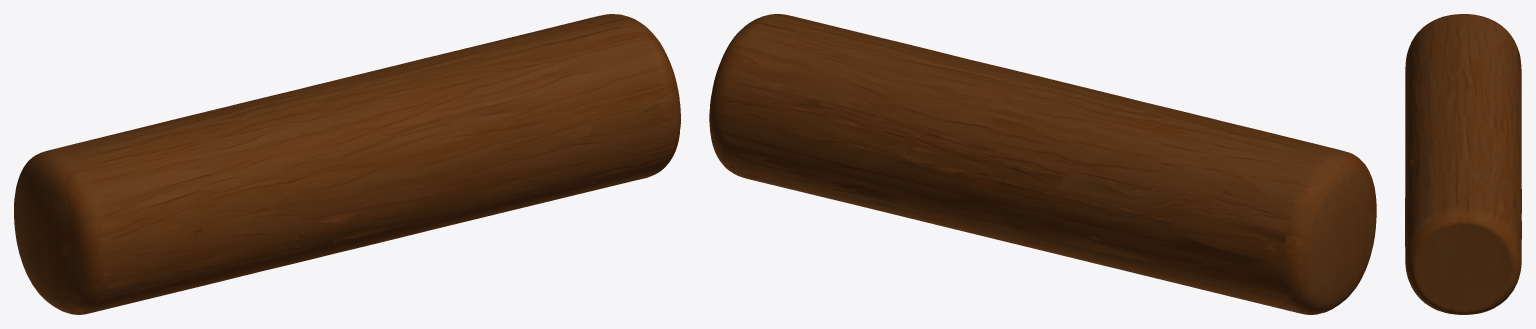
Rendered from peg.glb.
The picture shows the model from 3 angles, left to right: view 1: azimuth 30°, elevation 25°; view 2: azimuth 150°, elevation 25°; view 3: azimuth 270°, elevation 25°; orthographic projection. The views are drawn at different scales.
Parts seen in each view (by area): view 1: model; view 2: model; view 3: model.
Boxes of the visible parts, x1=… form: model: x1=14, y1=14, x2=680, y2=314; model: x1=709, y1=14, x2=1376, y2=314; model: x1=1405, y1=14, x2=1521, y2=314.
Bounding box in the file's own units: 1.9 × 0.4505 × 0.4505.
1 material, 1 textured.
